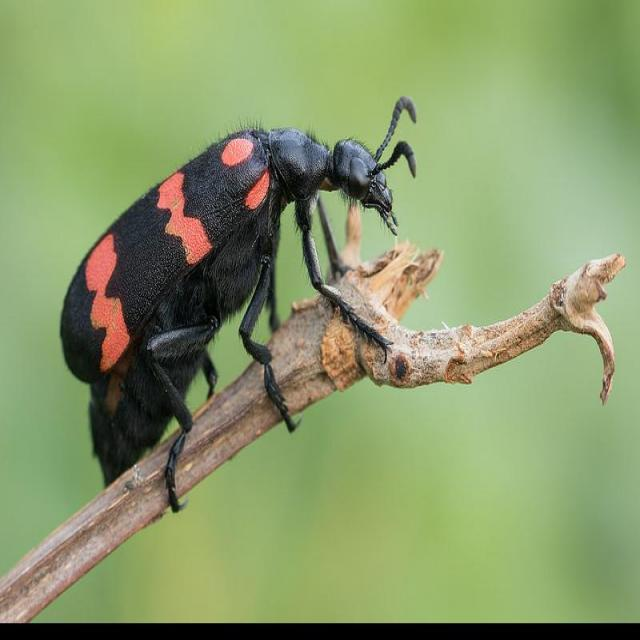BlisterBeetle-Adult-: (56, 87, 425, 520)
